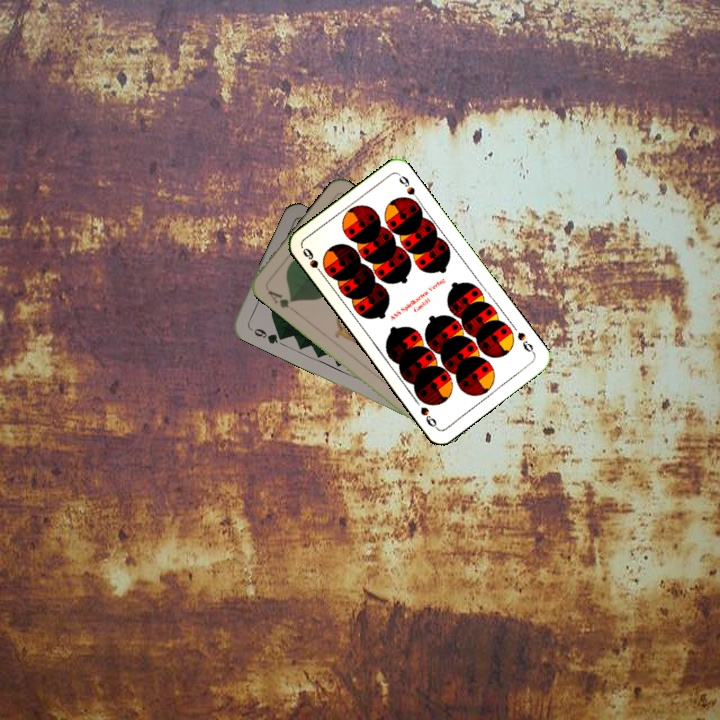G9: (245, 323, 285, 347)
GA: (264, 286, 297, 311)
S9: (298, 244, 327, 280), (513, 328, 538, 357)
